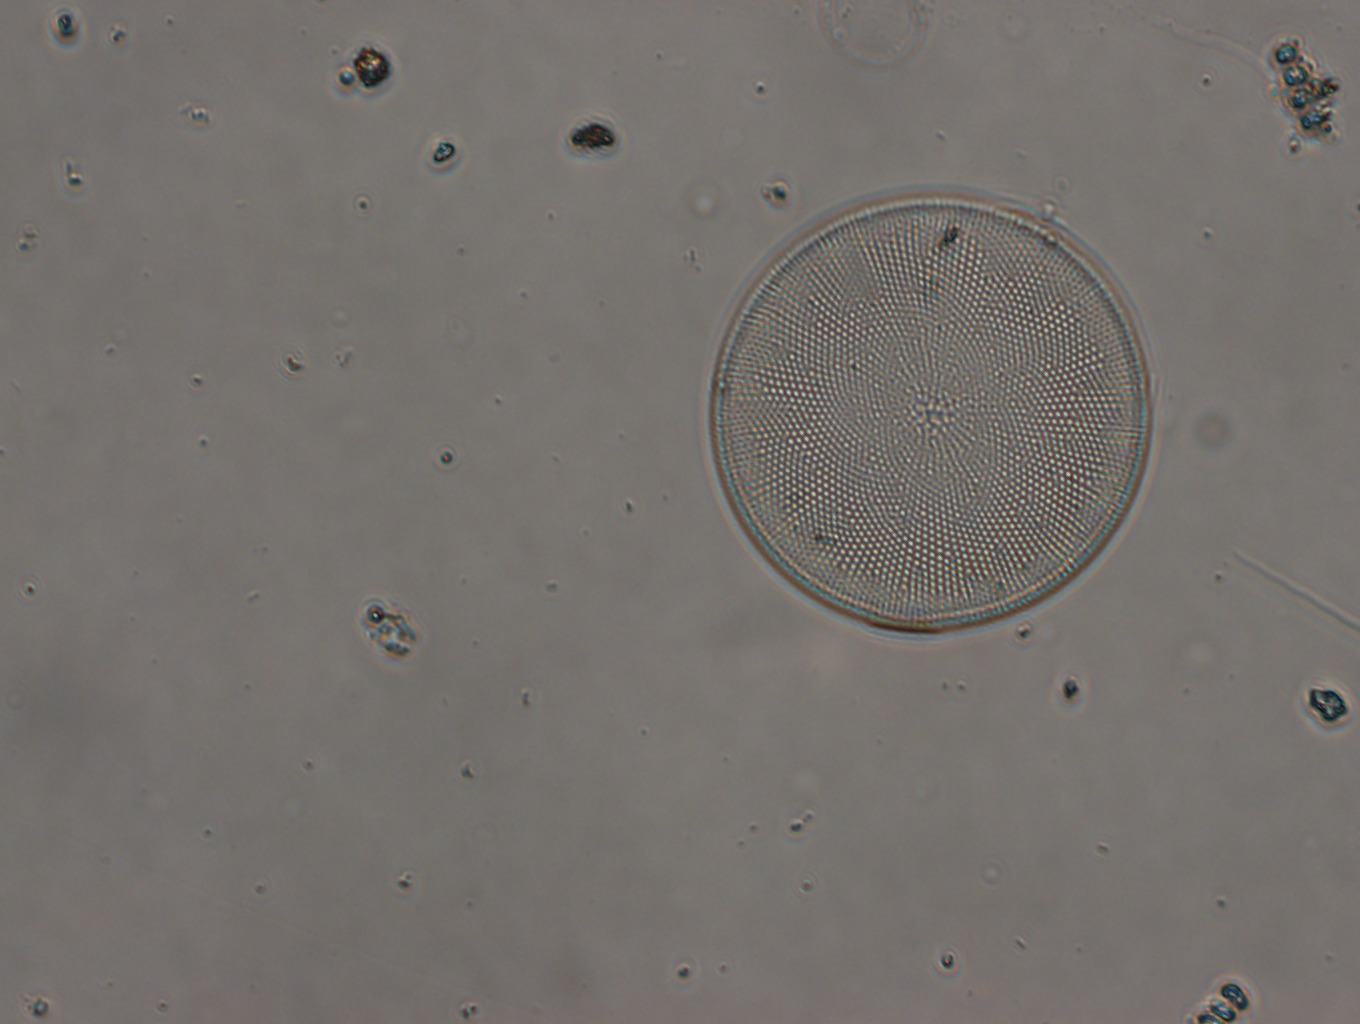coscinodiscus: (705, 185, 1155, 636)
